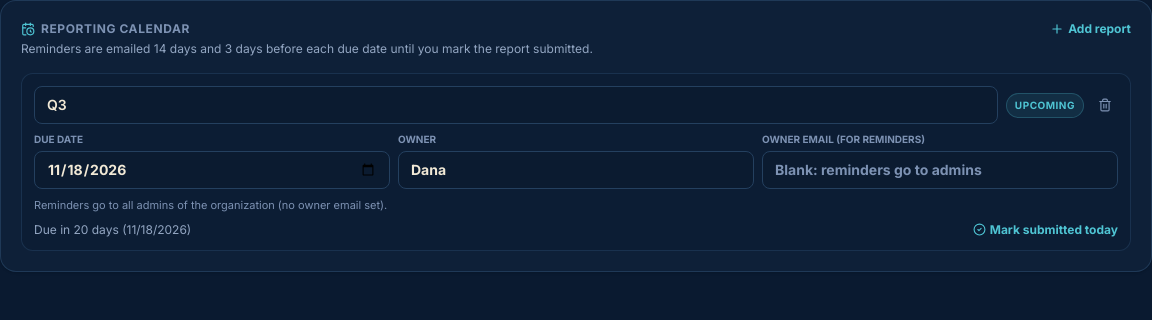
Scenario: Reporting calendar panel: email and default date › shows why an invalid email is not saved, and never passes it on
In the field named "Owner email for reminders": (940, 170) [762, 151, 1118, 189], type "not-an-email"
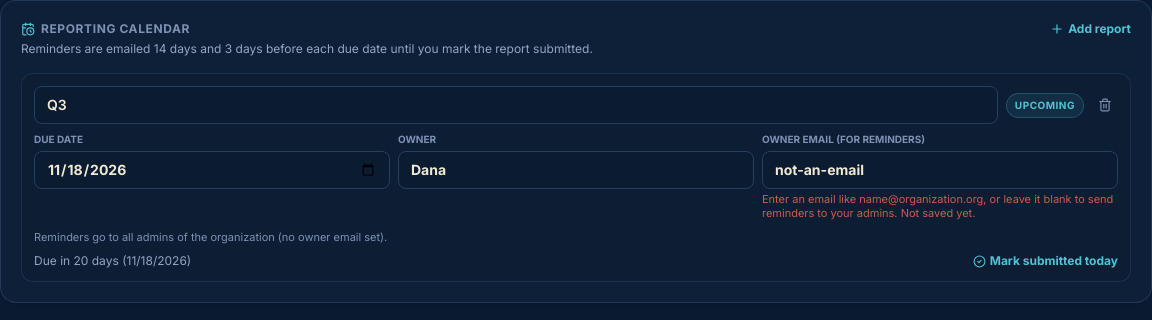
Expected: the message shows "name@organization.org", [762, 192, 1113, 220]
Expected: the message shows "Not saved yet", [898, 206, 975, 220]
